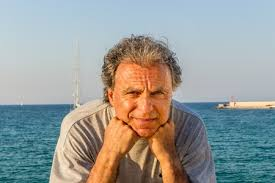white_male: (111, 48, 175, 133)
